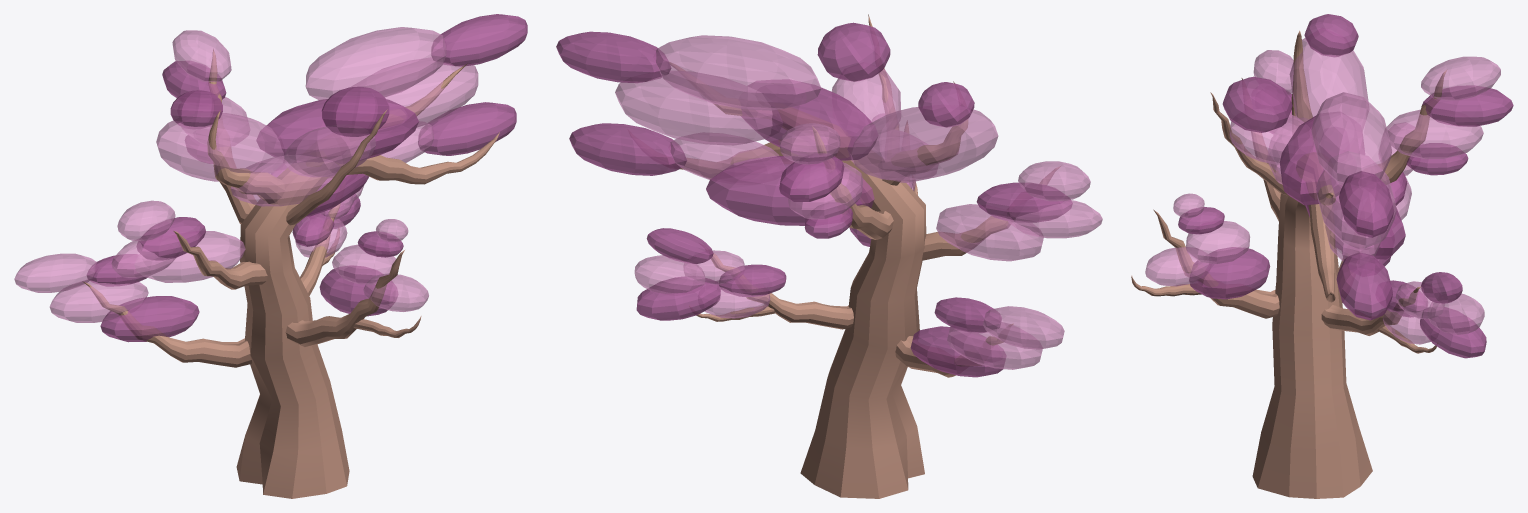
File: Thick tree.fbx
3 renders of one model, left to right at view 1: azimuth 30°, elevation 25°; view 2: azimuth 150°, elevation 25°; view 3: azimuth 270°, elevation 25°, orthographic. The views are drawn at different scales.
Visible parts, largest first — view 1: pCylinder14; view 2: pCylinder14; view 3: pCylinder14.
Part boxes in pixels (left/top/right/bottom): pCylinder14: left=14, top=14, right=527, bottom=498; pCylinder14: left=556, top=14, right=1102, bottom=498; pCylinder14: left=1131, top=14, right=1513, bottom=498.
Bounding box in the file's own units: 26.93 × 20.64 × 17.2.
